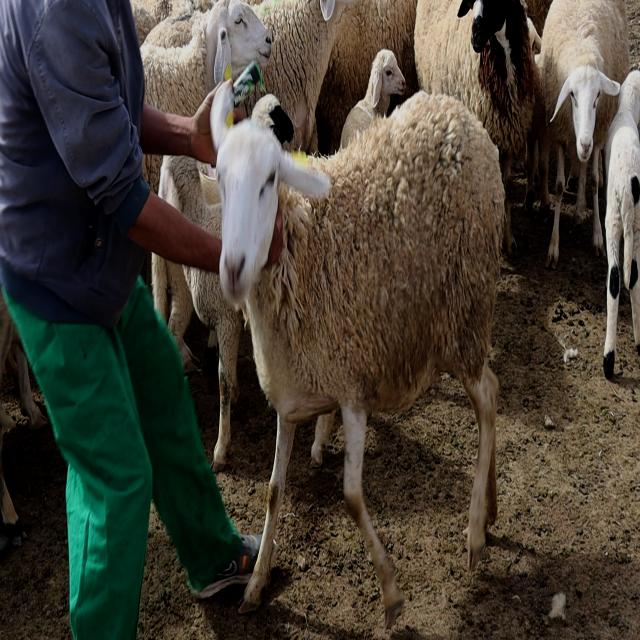Score_2: (210, 78, 504, 628)
